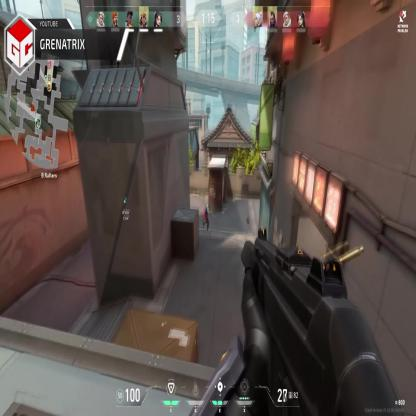enemy: (204, 200, 210, 231)
enemy_head: (206, 202, 208, 207)
